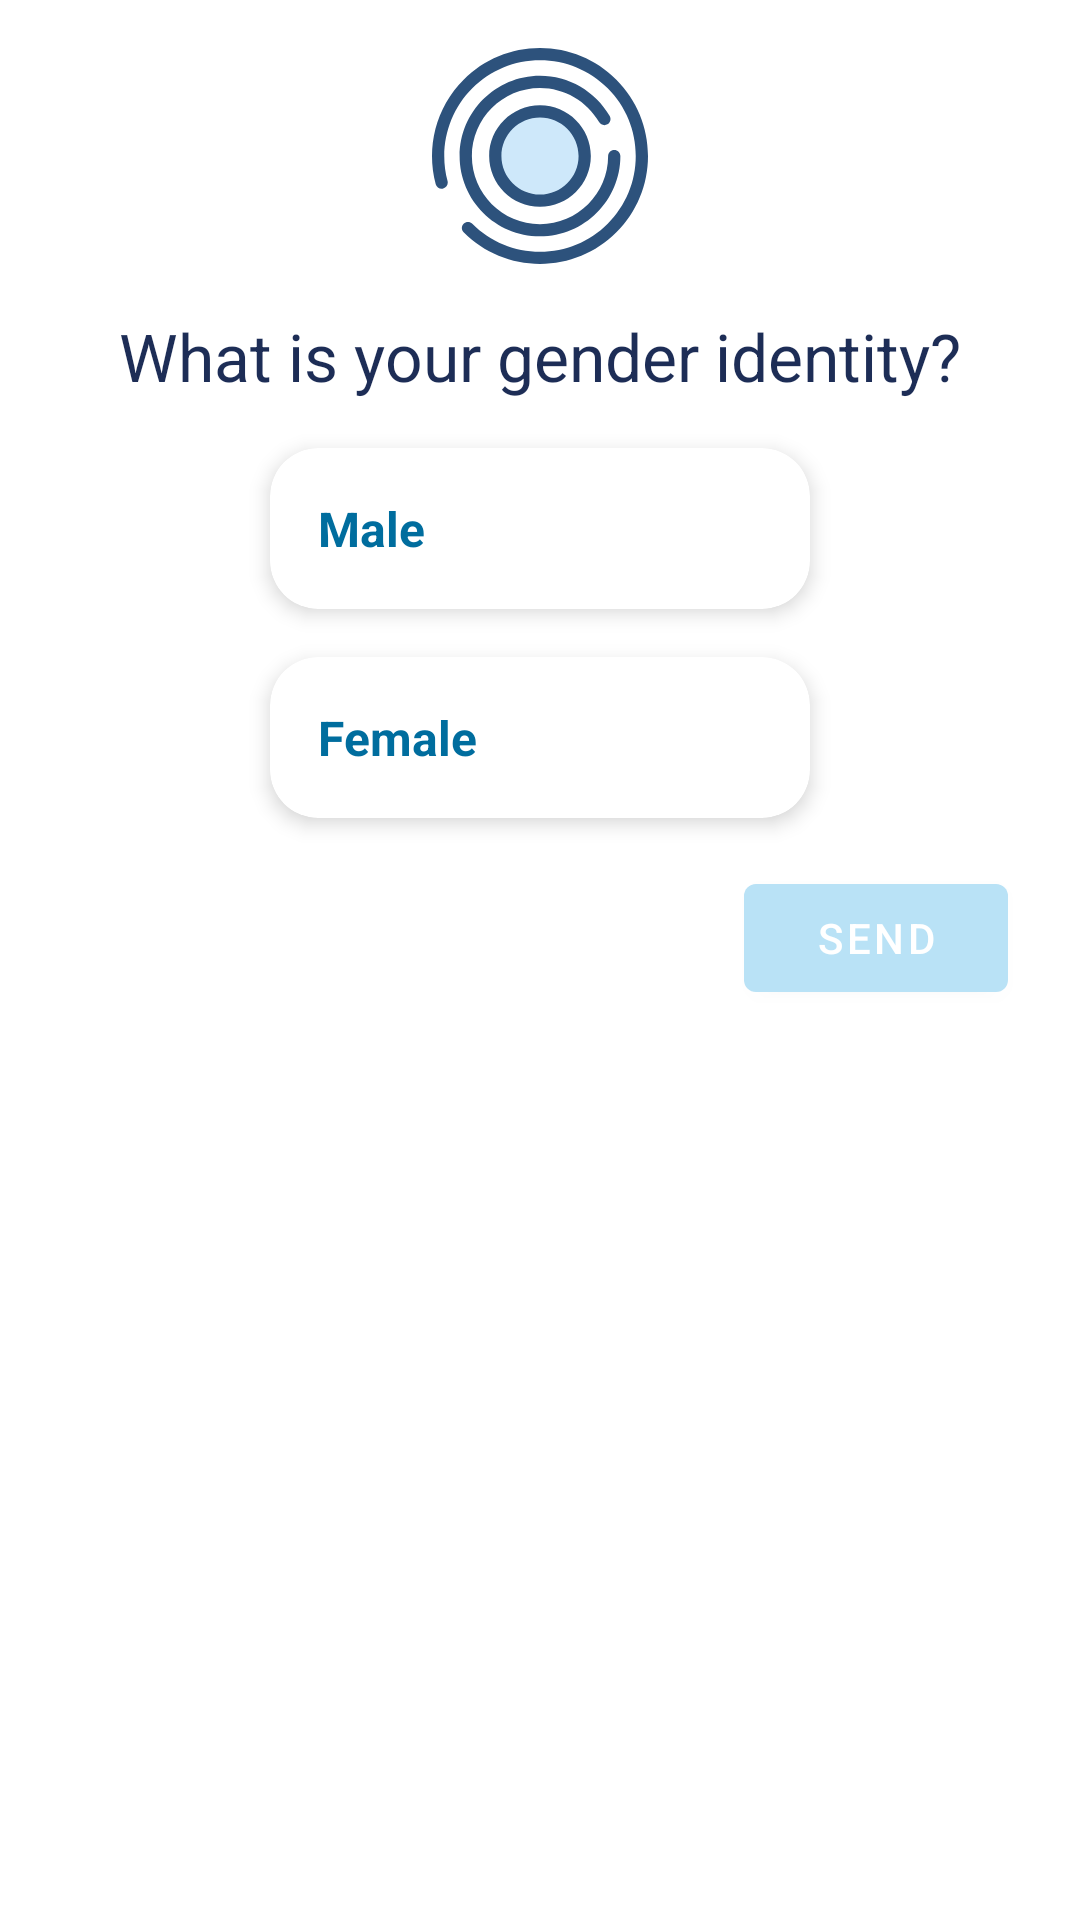

Named icons in this screenshot (1080 × 1920) and their centers, (x=x, y=y):
circle oval: (x=540, y=156)
